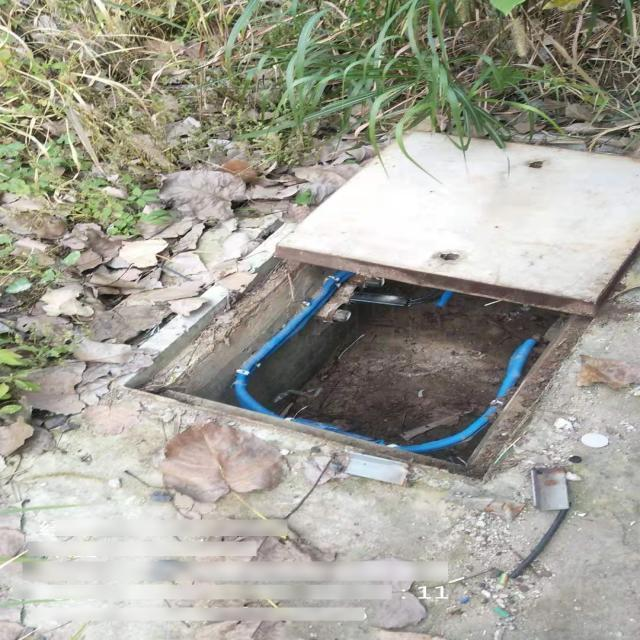Faulty: (110, 130, 640, 484)
